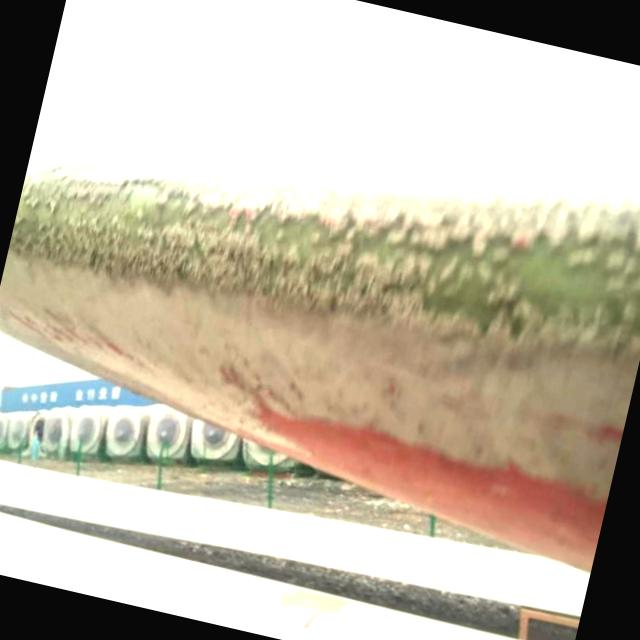corrosion: (1, 59, 640, 454)
